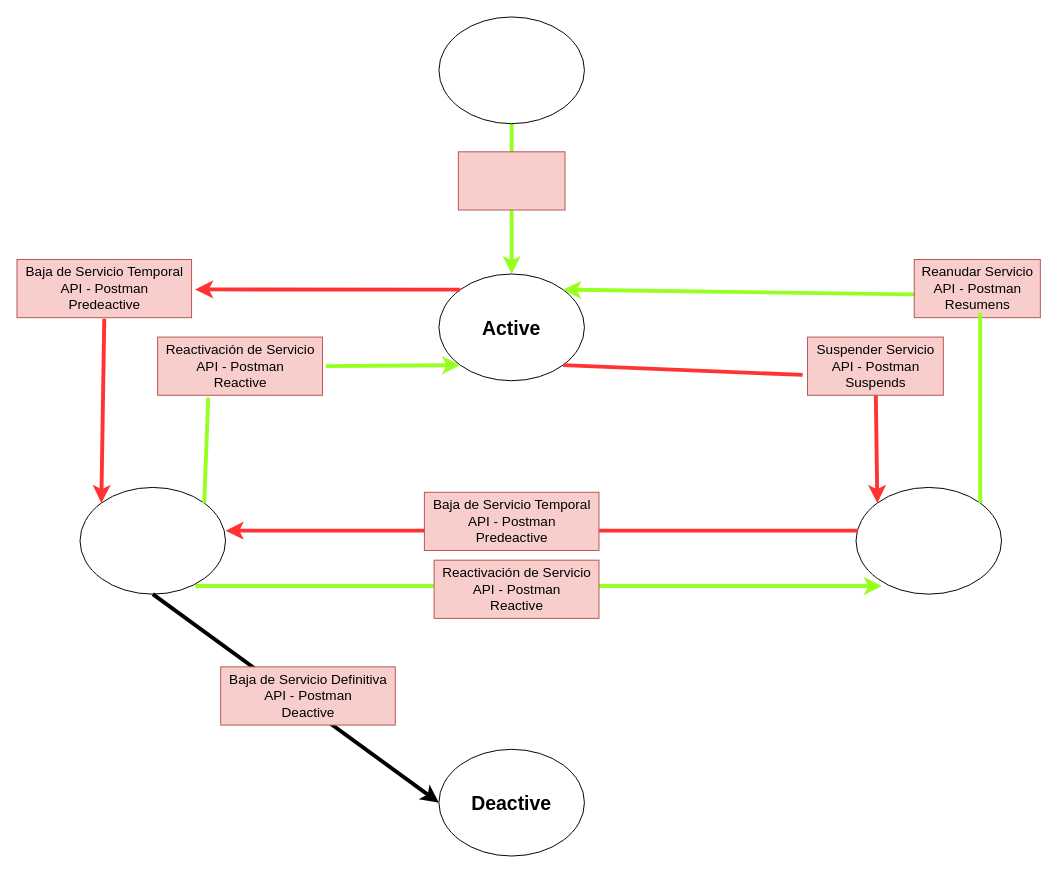
This 1057x873 diagram has some shape labels left out. Here are the shapes that lost their labels. From the top down, the box of each, then its label:
(438, 16, 584, 124): Pre-Active o IDLE
(457, 151, 565, 210): Activar Servicio API - Postman Activations
(79, 486, 226, 594): Pre-Deactive
(855, 486, 1002, 594): Suspend
